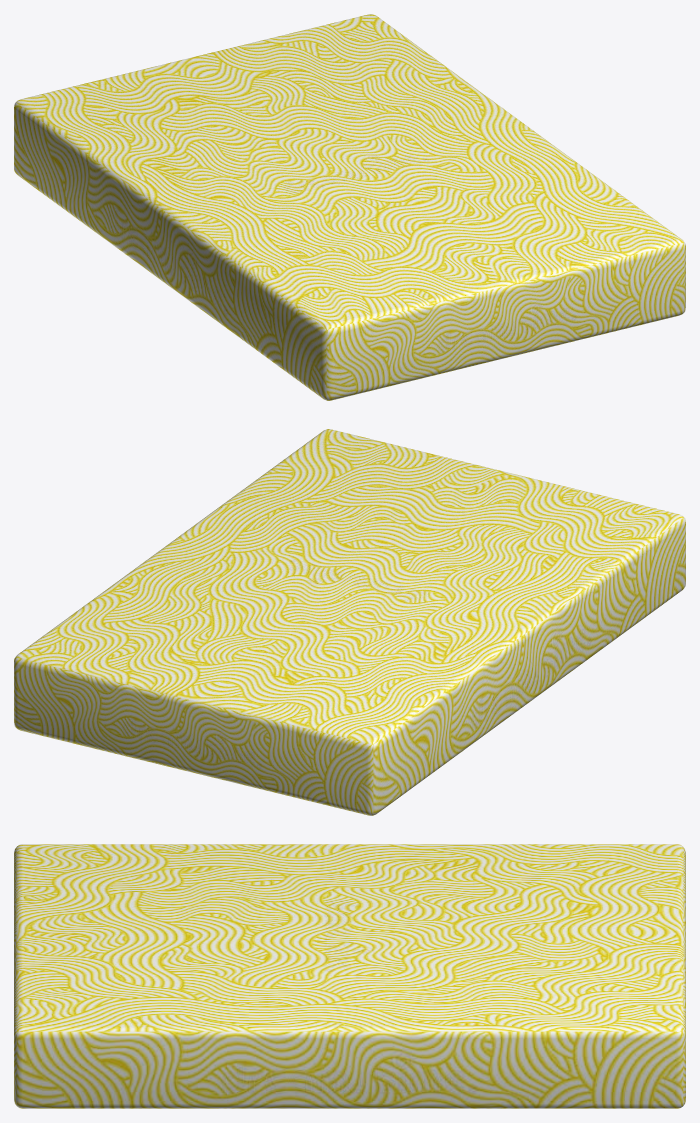
Rendered from Noodle.fbx.
3 renders of one model, top to bottom at view 1: azimuth 30°, elevation 25°; view 2: azimuth 150°, elevation 25°; view 3: azimuth 270°, elevation 25°, orthographic. The views are drawn at different scales.
Parts seen in each view (by area): view 1: NoodleBlock; view 2: NoodleBlock; view 3: NoodleBlock.
Part boxes in pixels (x1=…): NoodleBlock: x1=14, y1=14, x2=685, y2=400; NoodleBlock: x1=14, y1=429, x2=685, y2=815; NoodleBlock: x1=14, y1=844, x2=685, y2=1108.
Size of the model in its own units: 100 by 20 by 150.
1 material, 1 textured.
